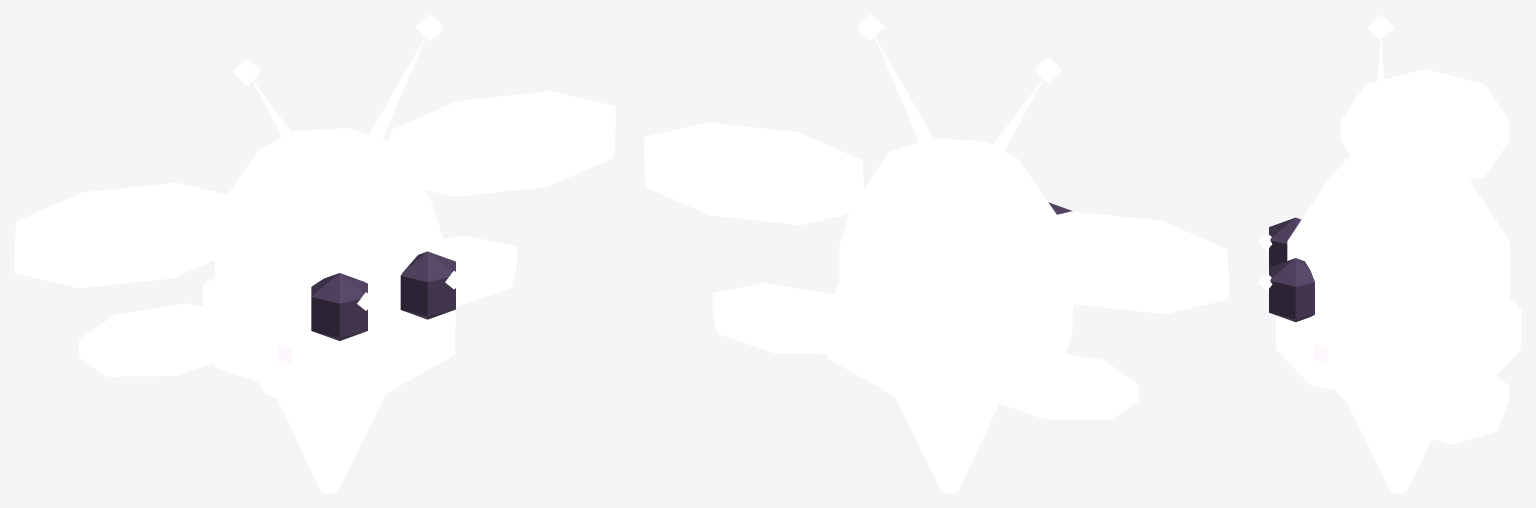
Rendered from spirit_hush.glb.
3 views of the same model, side by side, from view 1: azimuth 30°, elevation 25°; view 2: azimuth 150°, elevation 25°; view 3: azimuth 270°, elevation 25° (orthographic). The views are drawn at different scales.
Parts seen in each view (by area): view 1: body, flap_l, flap_r, flaplow_l, eyes, flaplow_r, twitch_r, twitch_l; view 2: body, flap_l, flap_r, flaplow_l, flaplow_r, twitch_r, twitch_l; view 3: body, flap_r, flap_l, flaplow_r, eyes, twitch_l, twitch_r.
Part boxes in pixels (left/top/right/bottom): body: left=203, top=128, right=455, bottom=493; flap_l: left=14, top=182, right=240, bottom=288; flap_r: left=390, top=91, right=615, bottom=196; flaplow_l: left=79, top=303, right=215, bottom=376; eyes: left=311, top=251, right=462, bottom=340; flaplow_r: left=443, top=235, right=516, bottom=306; twitch_r: left=364, top=14, right=442, bottom=150; twitch_l: left=232, top=58, right=312, bottom=167; body: left=827, top=138, right=1073, bottom=493; flap_l: left=1009, top=211, right=1228, bottom=314; flap_r: left=644, top=122, right=863, bottom=225; flaplow_l: left=985, top=352, right=1138, bottom=419; flaplow_r: left=712, top=283, right=834, bottom=354; twitch_r: left=858, top=14, right=934, bottom=145; twitch_l: left=985, top=57, right=1062, bottom=162; body: left=1275, top=148, right=1521, bottom=493; flap_r: left=1340, top=241, right=1509, bottom=364; flap_l: left=1340, top=69, right=1509, bottom=180; flaplow_r: left=1395, top=366, right=1508, bottom=444; eyes: left=1257, top=217, right=1314, bottom=322; twitch_l: left=1367, top=14, right=1394, bottom=153; twitch_r: left=1367, top=98, right=1394, bottom=187.
Size of the model in its own units: 3.69 by 2.7 by 1.49.
